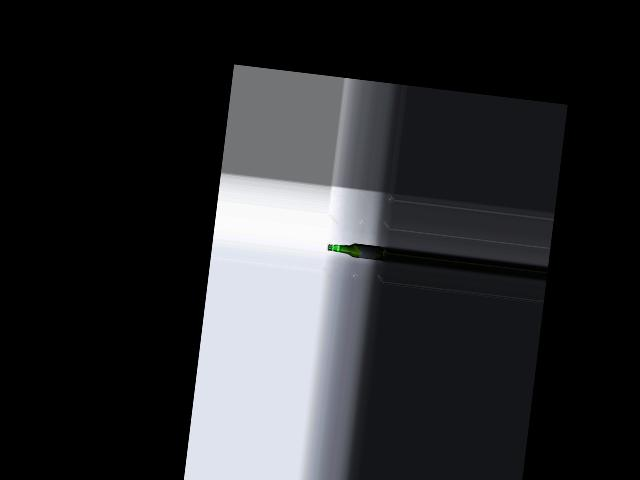beer: (327, 240, 383, 260)
